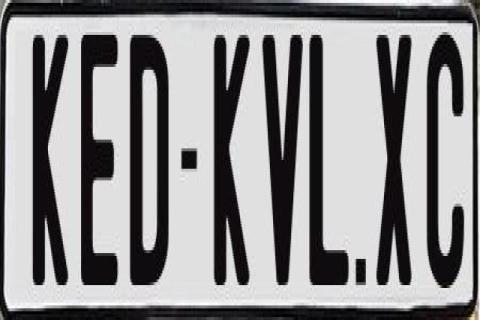C: (424, 23, 458, 280)
D: (130, 26, 174, 276)
E: (80, 26, 122, 282)
K: (33, 35, 71, 285), (213, 26, 248, 276)
L: (308, 29, 348, 279)
V: (262, 35, 306, 285)
X: (376, 32, 414, 288)
